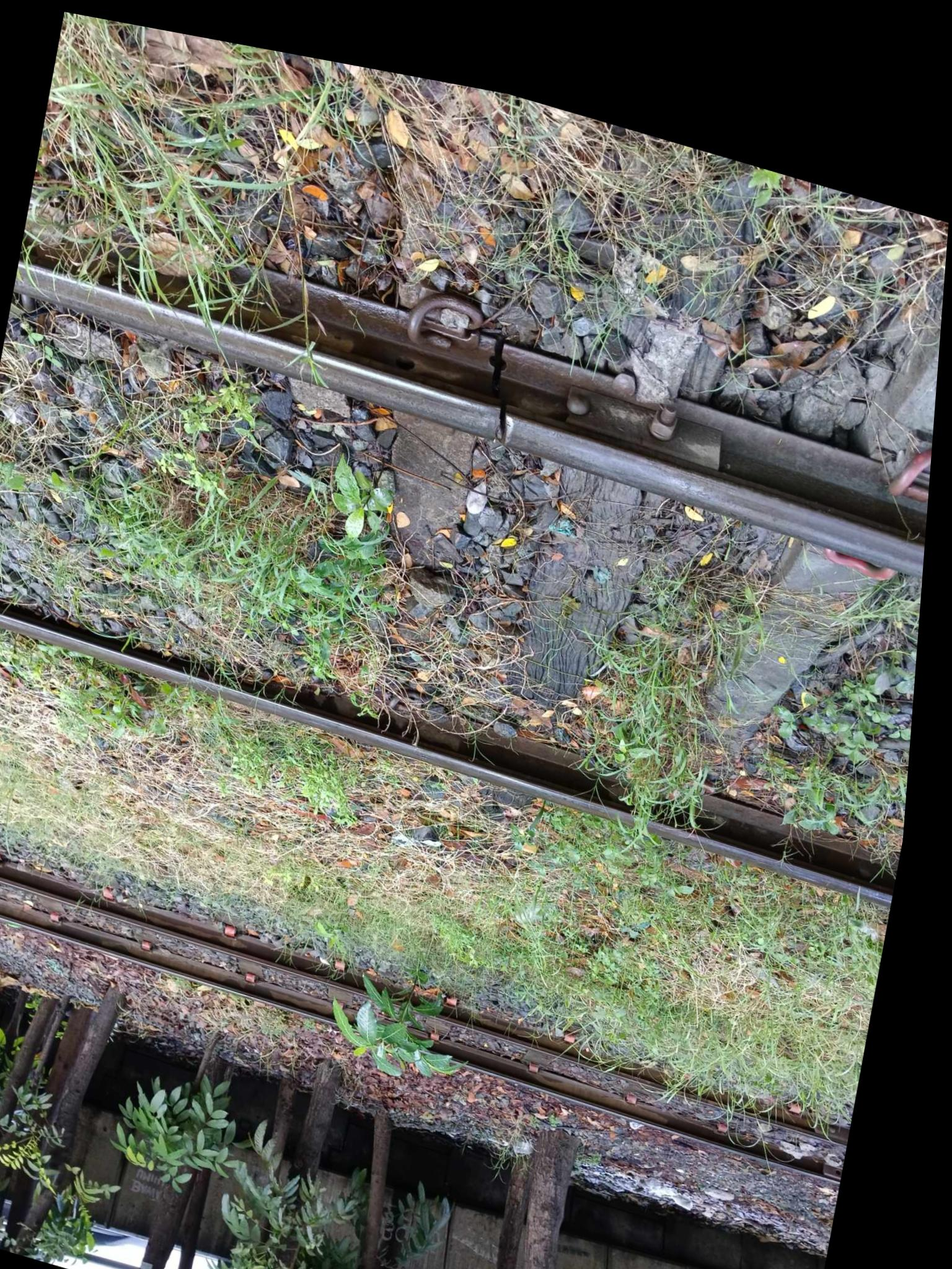person: (418, 278, 586, 455)
